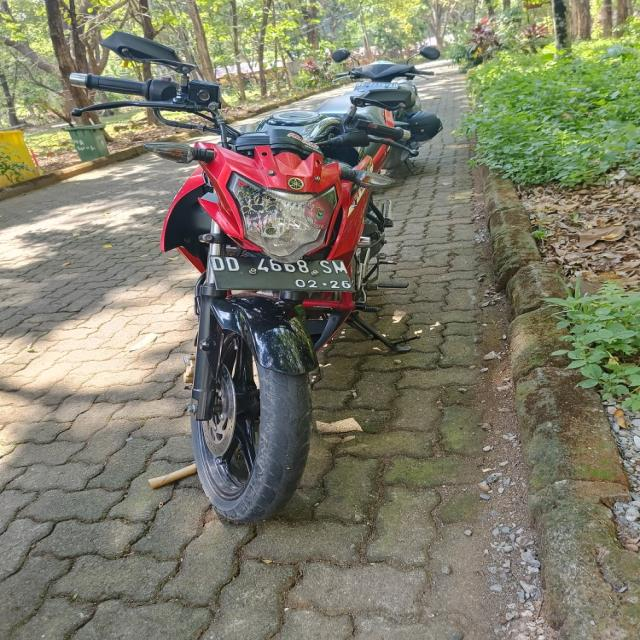plates: (207, 246, 358, 296)
